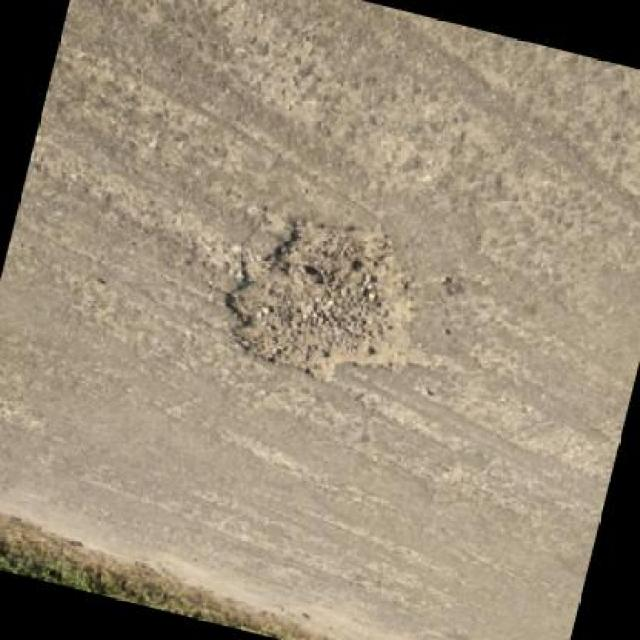pothole1: (208, 193, 466, 409)
